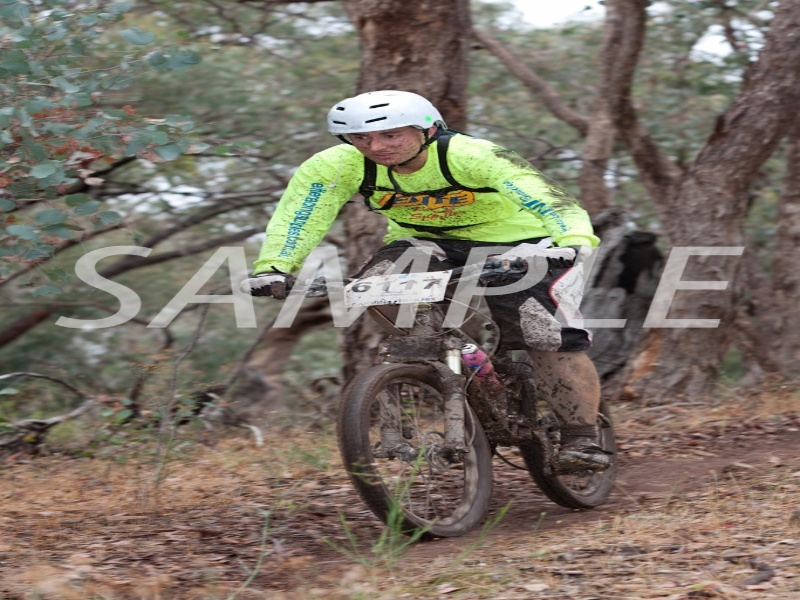Baret: (326, 93, 443, 136)
